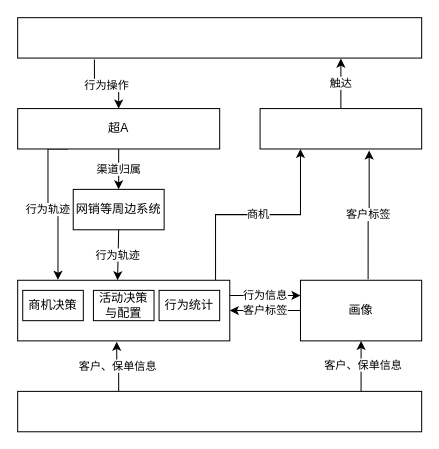
The diagram is 439 pixels wide and 449 high, and some of its shapes have lost their labels. Each missing label, with the centre of its shape:
"ECIF" belongs at point (219, 411).
"大地行" belongs at point (340, 128).
"客户" belongs at point (219, 37).
